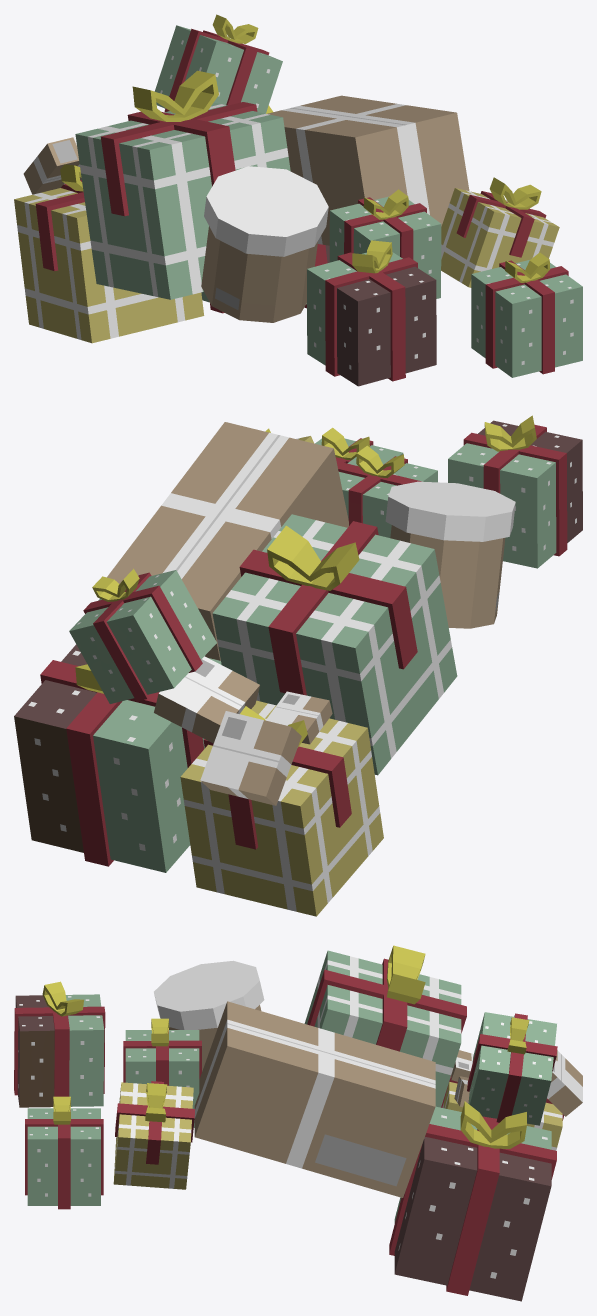
File: Cumulo de regalos 3.fbx
The picture shows the model from 3 angles, top to bottom: view 1: azimuth 30°, elevation 25°; view 2: azimuth 150°, elevation 25°; view 3: azimuth 270°, elevation 25°; orthographic projection. The views are drawn at different scales.
Visible parts, largest first — view 1: fes_Caja_tipo_9, fes_Caja_tipo_1 (×3), Caja_de_compra_9, Caja_circular4, fes_Caja_tipo_11, fes_Caja_tipo_7, fes_Caja_tipo_10, Moñito_9, Moñito_1 (×3), Caja_de_compra_8, Moñito_10, Moñito_11; view 2: fes_Caja_tipo_9, fes_Caja_tipo_8, fes_Caja_tipo_7, Caja_de_compra_9, fes_Caja_tipo_1 (×2), Caja_circular4, fes_Caja_tipo_11, Caja_de_compra_8, Caja_de_compra_10, Moñito_9, Moñito_1 (×3), Caja_de_compra_11 (+1 smaller); view 3: Caja_de_compra_9, fes_Caja_tipo_8, fes_Caja_tipo_1 (×3), fes_Caja_tipo_9, fes_Caja_tipo_11, fes_Caja_tipo_10, Caja_circular4, Moñito_8, Moñito_9, Moñito_1 (×3), Caja_de_compra_8, fes_Caja_tipo_7 (+3 smaller).
Boxes of the visible parts, <box> form: fes_Caja_tipo_9: <box>75,102,290,299</box>; fes_Caja_tipo_1 (×3): <box>154,25,582,377</box>; Caja_de_compra_9: <box>267,95,469,245</box>; Caja_circular4: <box>201,166,328,322</box>; fes_Caja_tipo_11: <box>307,252,436,386</box>; fes_Caja_tipo_7: <box>14,180,204,343</box>; fes_Caja_tipo_10: <box>441,188,559,287</box>; Moñito_9: <box>132,70,218,121</box>; Moñito_1 (×3): <box>212,14,550,282</box>; Caja_de_compra_8: <box>23,136,81,194</box>; Moñito_10: <box>489,177,541,209</box>; Moñito_11: <box>352,240,392,273</box>; fes_Caja_tipo_9: <box>212,514,457,775</box>; fes_Caja_tipo_8: <box>14,644,221,872</box>; fes_Caja_tipo_7: <box>180,700,383,916</box>; Caja_de_compra_9: <box>107,422,348,660</box>; fes_Caja_tipo_1 (×2): <box>69,456,437,703</box>; Caja_circular4: <box>385,481,515,628</box>; fes_Caja_tipo_11: <box>448,420,582,568</box>; Caja_de_compra_8: <box>200,711,301,805</box>; Caja_de_compra_10: <box>154,656,259,743</box>; Moñito_9: <box>267,525,359,590</box>; Moñito_1 (×3): <box>92,427,404,601</box>; Caja_de_compra_11: <box>266,691,332,744</box>; Caja_de_compra_9: <box>194,1001,435,1197</box>; fes_Caja_tipo_8: <box>389,1106,556,1301</box>; fes_Caja_tipo_1 (×3): <box>25,1012,557,1209</box>; fes_Caja_tipo_9: <box>304,950,466,1107</box>; fes_Caja_tipo_11: <box>14,994,105,1107</box>; fes_Caja_tipo_10: <box>113,1081,194,1189</box>; Caja_circular4: <box>154,960,264,1071</box>; Moñito_8: <box>460,1101,526,1148</box>; Moñito_9: <box>386,945,425,1004</box>; Moñito_1 (×3): <box>53,1017,529,1124</box>; Caja_de_compra_8: <box>547,1050,582,1116</box>; fes_Caja_tipo_7: <box>441,1075,564,1150</box>.
Bounding box in the file's own units: 0.5186 × 0.4658 × 0.9264.
